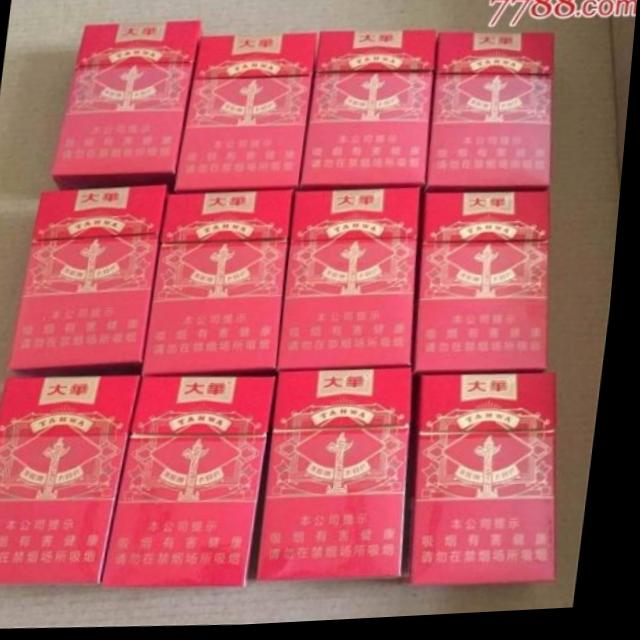box: (110, 376, 282, 591), (412, 377, 567, 590), (265, 372, 418, 585), (0, 376, 149, 586), (17, 187, 170, 377), (150, 192, 298, 377), (284, 192, 423, 373), (55, 24, 202, 190), (420, 196, 553, 378), (177, 35, 320, 195), (303, 35, 438, 193), (429, 37, 556, 196)
